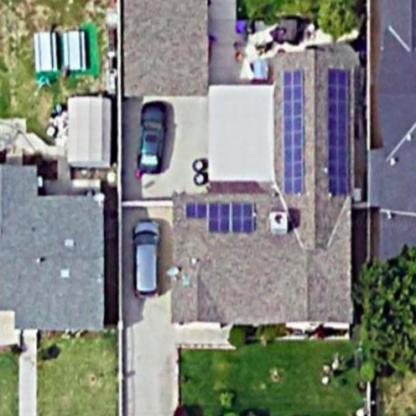car: (138, 95, 172, 177), (131, 216, 162, 301)
solar_panel: (278, 60, 309, 201), (327, 58, 357, 200), (180, 198, 262, 239)
